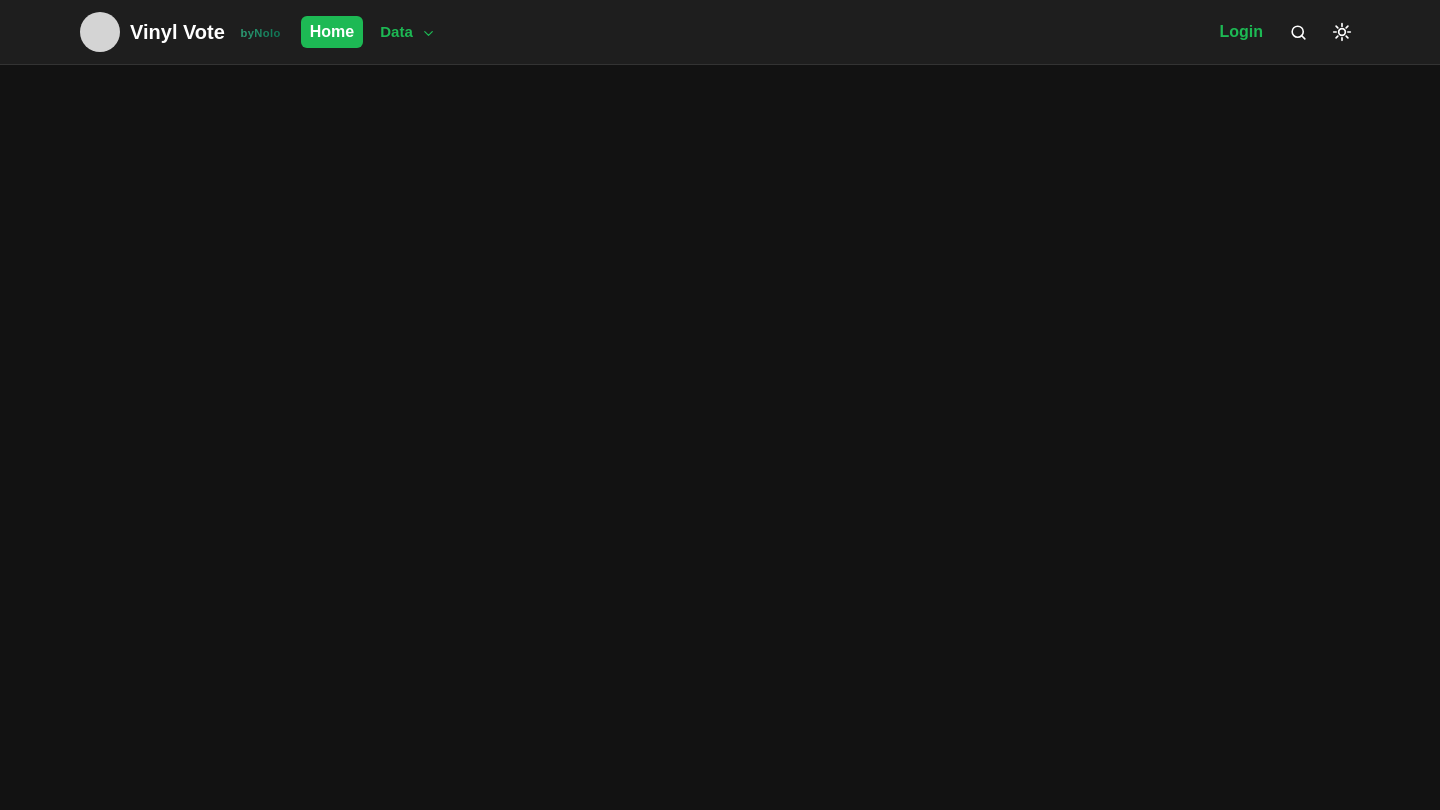
Test case: Header › opens the site search palette from the header icon
This screenshot has width=1440, height=810.
Click the button named "Open site search" at (1298,32), box [1280, 14, 1316, 50]
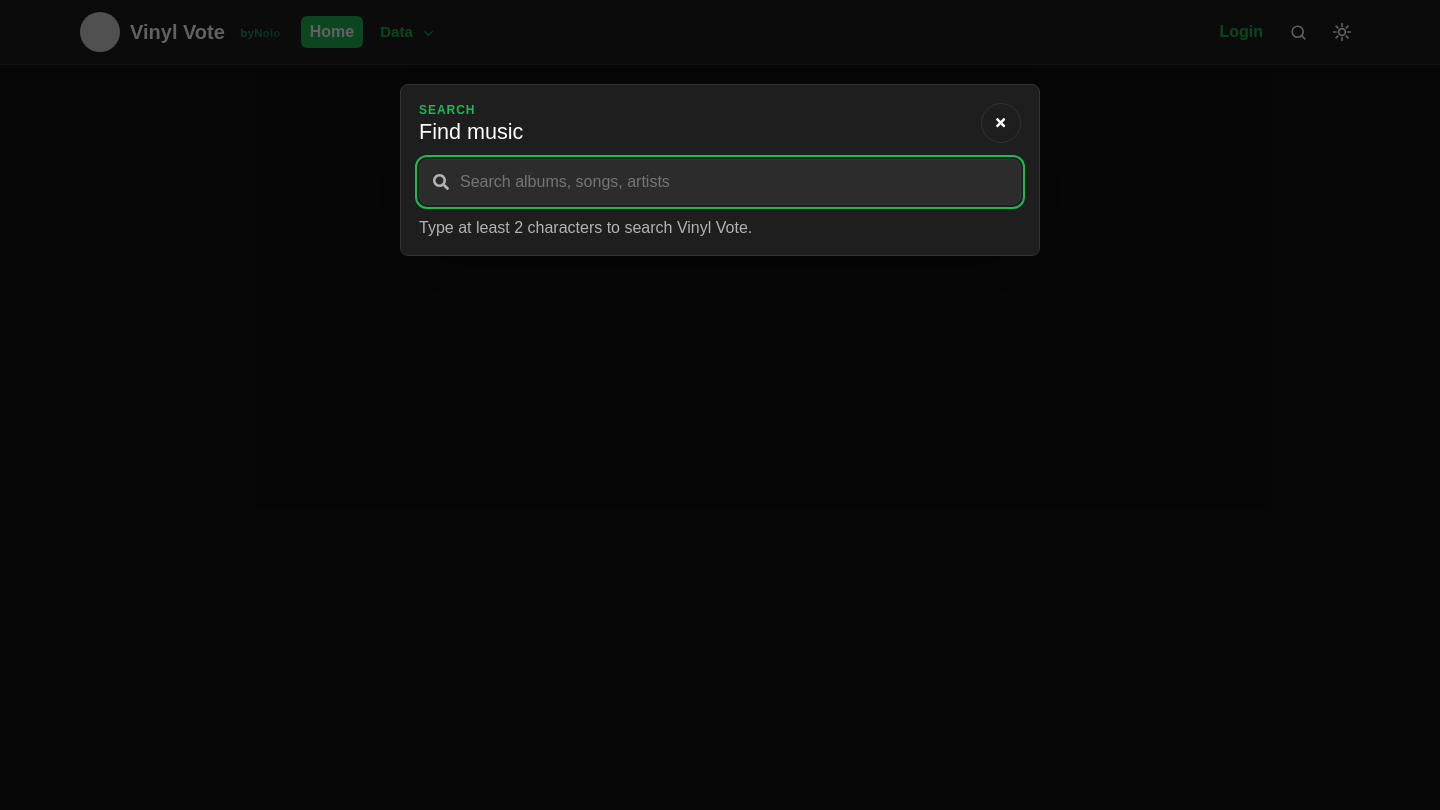
Expected: the dialog "Find music" is shown, [400, 84, 1040, 256]
Expected: the search field is shown, [419, 159, 1021, 205]
